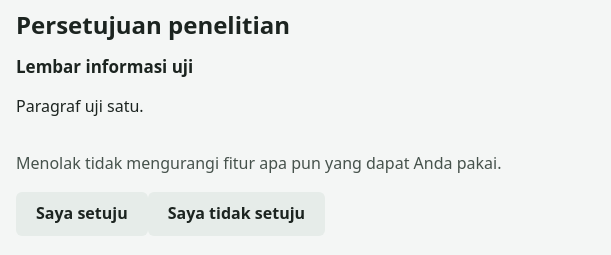
Scenario: alur aktivasi menurut ringkasan › menolak tetap melanjutkan ke pengenalan — FR-A05
The image size is (611, 255).
Click the button "Saya tidak setuju". click: [236, 214]
box: [148,192,325,236]
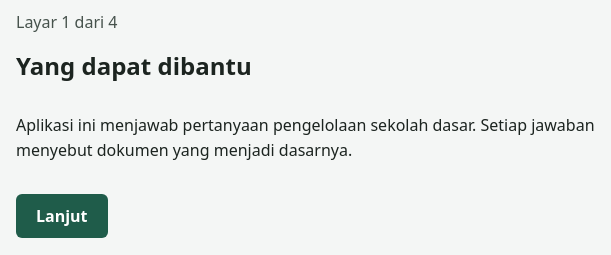
Expected: the heading "Yang dapat dibantu" is shown, [16,49,252,82]
